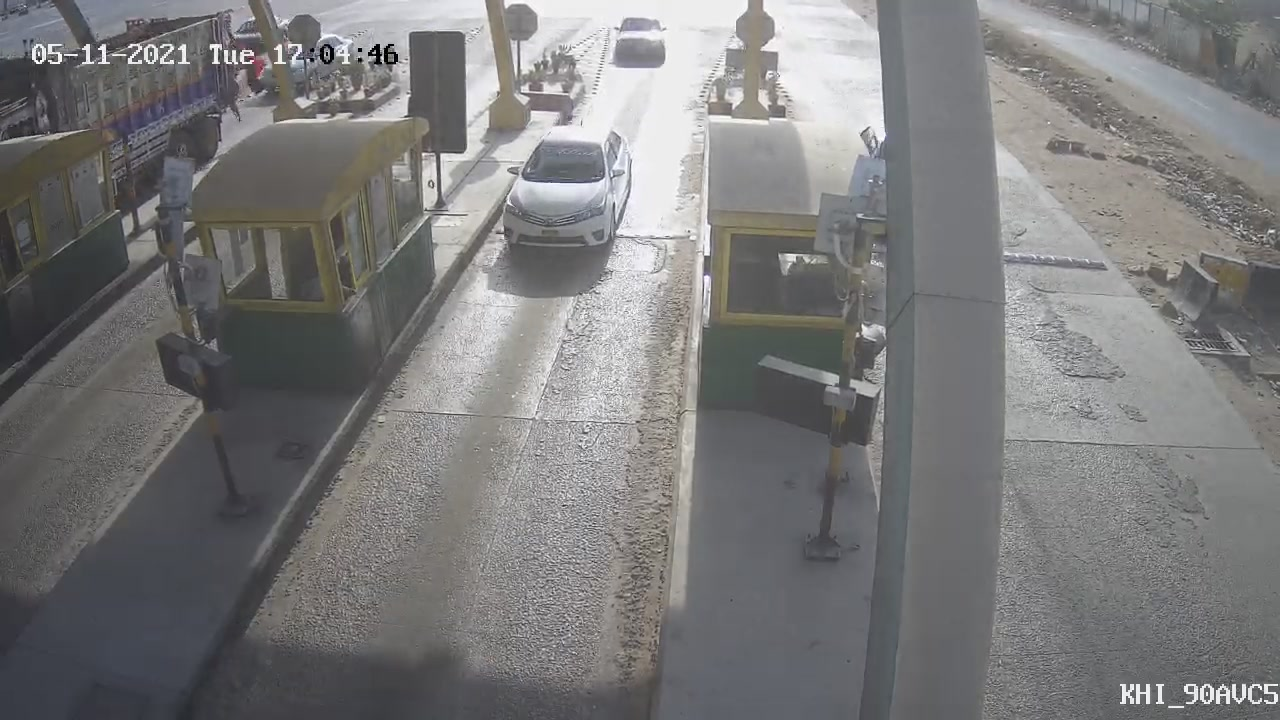F1: (484, 110, 649, 276)
